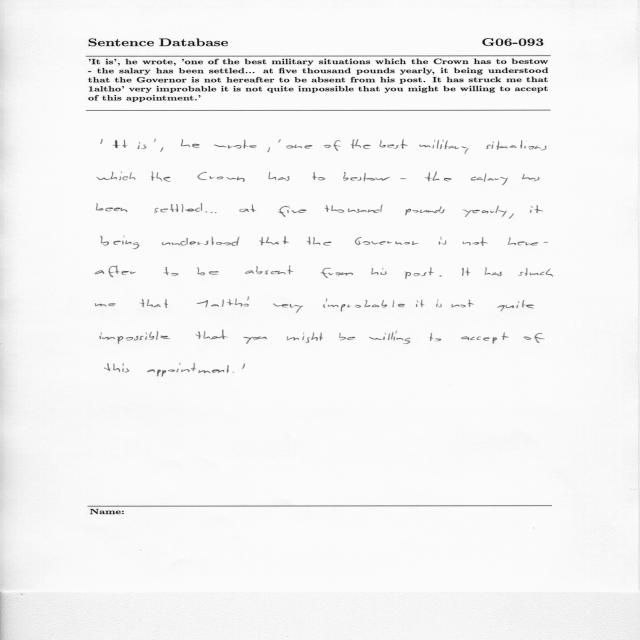word: (323, 298, 405, 312), (147, 363, 229, 377), (197, 297, 288, 307), (100, 331, 170, 344), (162, 236, 240, 246), (419, 140, 469, 154), (486, 140, 546, 151), (369, 331, 410, 344), (461, 333, 509, 344), (355, 237, 419, 245), (463, 206, 508, 217), (101, 236, 139, 249), (197, 172, 245, 182), (154, 203, 202, 213), (325, 205, 383, 213), (95, 266, 136, 277), (245, 266, 294, 275), (343, 172, 390, 181), (471, 174, 508, 185), (497, 300, 534, 311), (287, 332, 324, 343), (214, 140, 257, 149), (405, 206, 445, 215), (508, 237, 548, 246), (405, 267, 434, 279), (321, 268, 353, 278), (278, 206, 307, 217), (518, 268, 553, 277), (97, 172, 136, 180), (196, 330, 228, 339), (380, 139, 408, 149), (97, 204, 128, 213), (260, 237, 289, 246), (140, 299, 168, 308), (425, 172, 452, 181), (307, 237, 332, 246), (463, 237, 488, 246), (105, 364, 130, 373), (524, 333, 545, 343), (351, 139, 371, 149), (151, 172, 171, 182), (244, 336, 268, 344), (269, 172, 290, 181), (324, 140, 341, 151), (452, 300, 475, 308), (197, 268, 219, 276), (181, 139, 200, 148), (485, 267, 502, 276), (163, 267, 179, 276), (522, 174, 540, 181), (113, 140, 128, 148), (239, 205, 256, 212), (290, 304, 303, 313), (371, 268, 387, 275), (339, 333, 355, 340), (286, 145, 312, 149), (312, 172, 325, 180), (530, 205, 543, 213), (430, 333, 441, 341), (95, 303, 116, 307), (462, 267, 470, 276), (138, 142, 147, 149), (439, 237, 446, 245), (416, 300, 424, 307), (436, 300, 442, 308), (509, 214, 514, 219), (205, 212, 217, 214), (242, 363, 245, 369), (160, 147, 163, 152), (267, 148, 270, 153), (278, 139, 281, 143), (101, 139, 103, 144), (400, 178, 407, 179), (154, 139, 156, 142), (440, 275, 443, 277), (233, 372, 235, 373)
